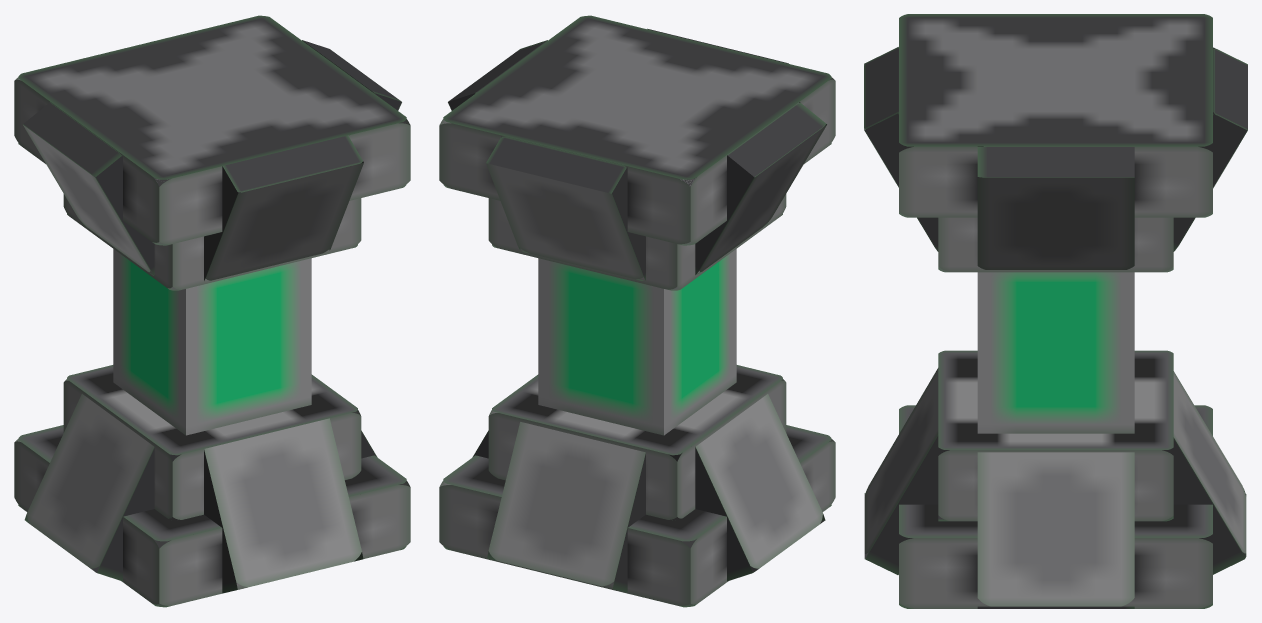
File: moleculart1.obj
3 views of the same model, side by side, from view 1: azimuth 30°, elevation 25°; view 2: azimuth 150°, elevation 25°; view 3: azimuth 270°, elevation 25° (orthographic). The views are drawn at different scales.
Parts seen in each view (by area): view 1: cube.000, cube.008, cube.012, cube.005, cube.004, cube.010, cube.006, cube.013, cube.001, cube, cube.003; view 2: cube.000, cube.009, cube.011, cube.005, cube.002, cube.010, cube.006, cube.013, cube.001, cube, cube.003; view 3: cube.000, cube.014, cube.007, cube.003, cube.006, cube.005, cube.008, cube.009, cube, cube.002, cube.004.
Part boxes in pixels (x1=…): cube.000: x1=14, y1=15, x2=410, y2=245; cube.008: x1=204, y1=418, x2=363, y2=593; cube.012: x1=186, y1=258, x2=311, y2=435; cube.005: x1=14, y1=425, x2=410, y2=607; cube.004: x1=204, y1=135, x2=363, y2=280; cube.010: x1=24, y1=394, x2=181, y2=581; cube.006: x1=63, y1=365, x2=361, y2=519; cube.013: x1=113, y1=249, x2=185, y2=435; cube.001: x1=23, y1=102, x2=154, y2=275; cube: x1=63, y1=177, x2=361, y2=290; cube.003: x1=302, y1=40, x2=401, y2=110; cube.000: x1=439, y1=15, x2=835, y2=245; cube.009: x1=487, y1=422, x2=645, y2=592; cube.011: x1=538, y1=258, x2=663, y2=435; cube.005: x1=439, y1=425, x2=835, y2=607; cube.002: x1=486, y1=136, x2=645, y2=280; cube.010: x1=668, y1=394, x2=825, y2=581; cube.006: x1=488, y1=365, x2=786, y2=520; cube.013: x1=664, y1=249, x2=736, y2=435; cube.001: x1=695, y1=102, x2=826, y2=275; cube: x1=488, y1=177, x2=786, y2=290; cube.003: x1=448, y1=40, x2=547, y2=110; cube.000: x1=899, y1=14, x2=1212, y2=217; cube.014: x1=977, y1=272, x2=1134, y2=433; cube.007: x1=977, y1=452, x2=1134, y2=608; cube.003: x1=977, y1=146, x2=1134, y2=269; cube.006: x1=938, y1=350, x2=1173, y2=521; cube.005: x1=899, y1=405, x2=1212, y2=608; cube.008: x1=864, y1=368, x2=949, y2=574; cube.009: x1=1162, y1=371, x2=1246, y2=574; cube: x1=938, y1=217, x2=1173, y2=272; cube.002: x1=1173, y1=47, x2=1247, y2=251; cube.004: x1=864, y1=47, x2=938, y2=251.
Bounding box in the file's own units: 0.6109 × 0.8135 × 0.6113.
